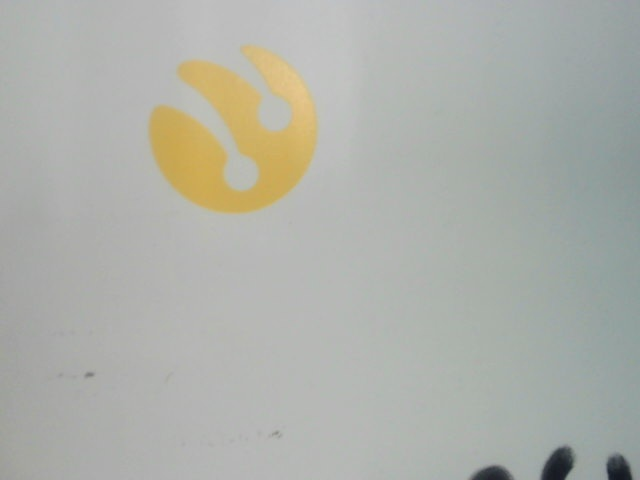AV_H3600Yellow: (143, 43, 333, 212)
